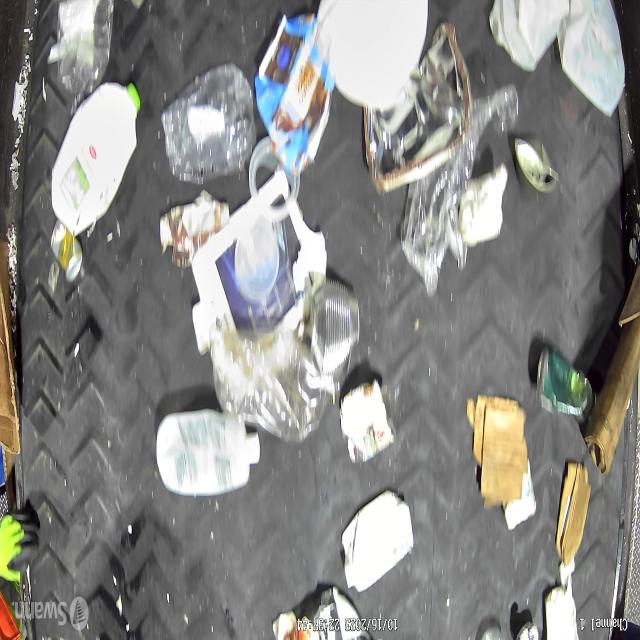can: (305, 278, 361, 378), (338, 375, 394, 465), (535, 348, 593, 420), (513, 136, 558, 196), (50, 218, 83, 282)
milk_jug: (47, 81, 142, 230), (310, 0, 427, 110), (558, 1, 626, 120), (492, 0, 571, 71)
non_white_jug: (254, 13, 336, 177)
plastic_bottle: (210, 327, 339, 444), (160, 64, 256, 186)
